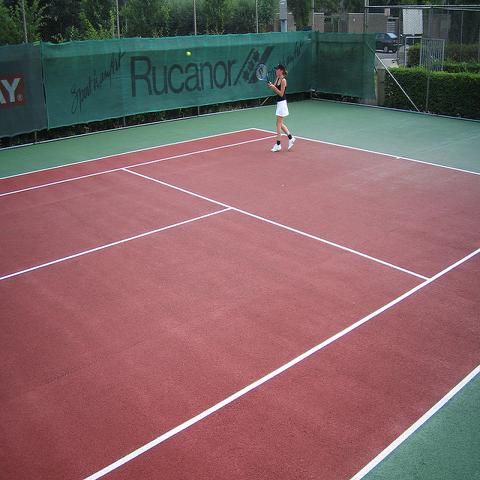car: (376, 32, 398, 53)
